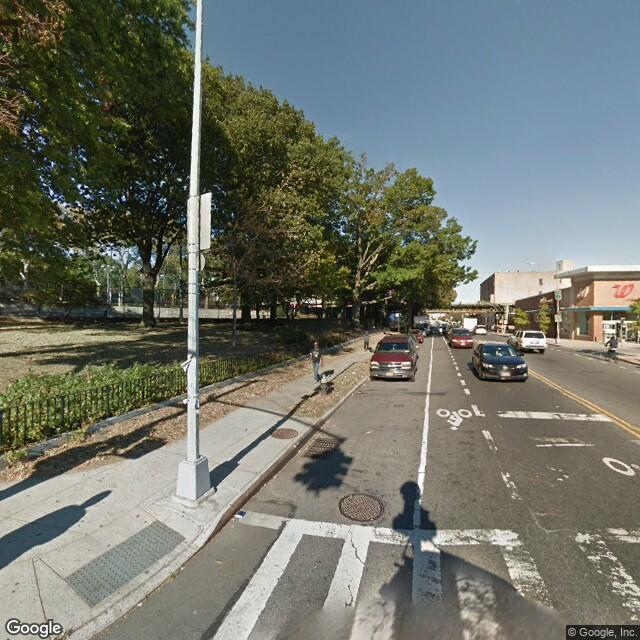litter: (234, 506, 247, 521), (136, 599, 147, 606)
